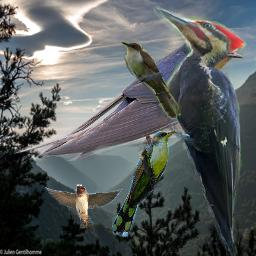Cuckoo: (112, 131, 177, 237), (120, 40, 181, 120)
Swallow: (14, 29, 245, 161), (43, 184, 123, 228)
Woodpecker: (151, 6, 247, 256)
